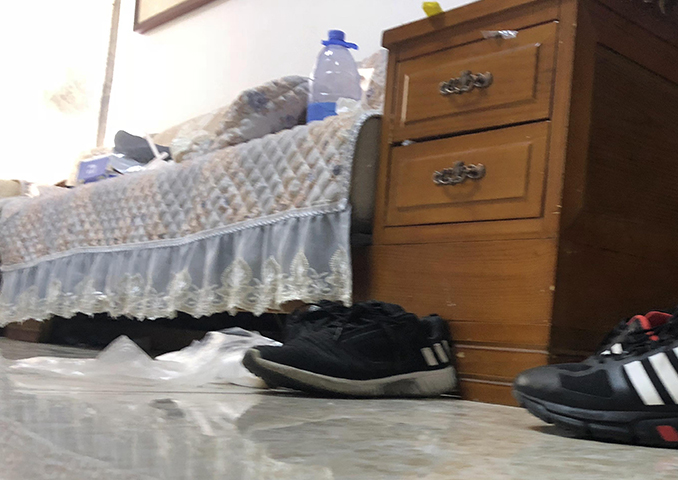cabinet: (359, 1, 677, 408)
sofa: (1, 46, 387, 345)
